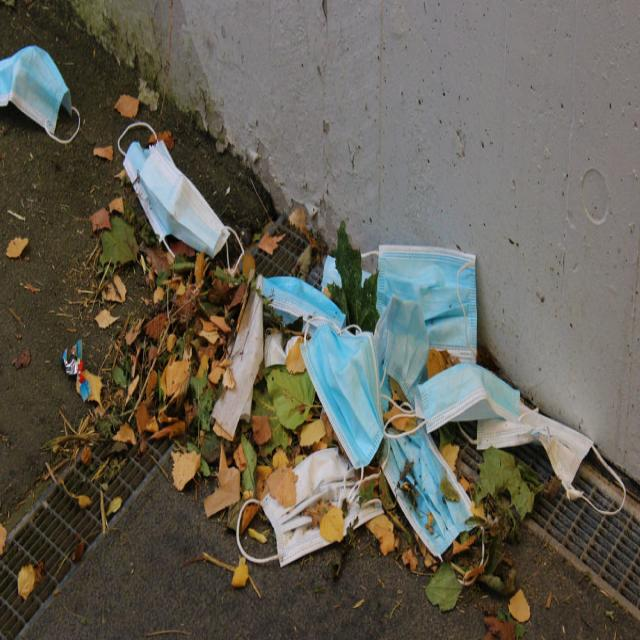garbage: (115, 92, 625, 599)
